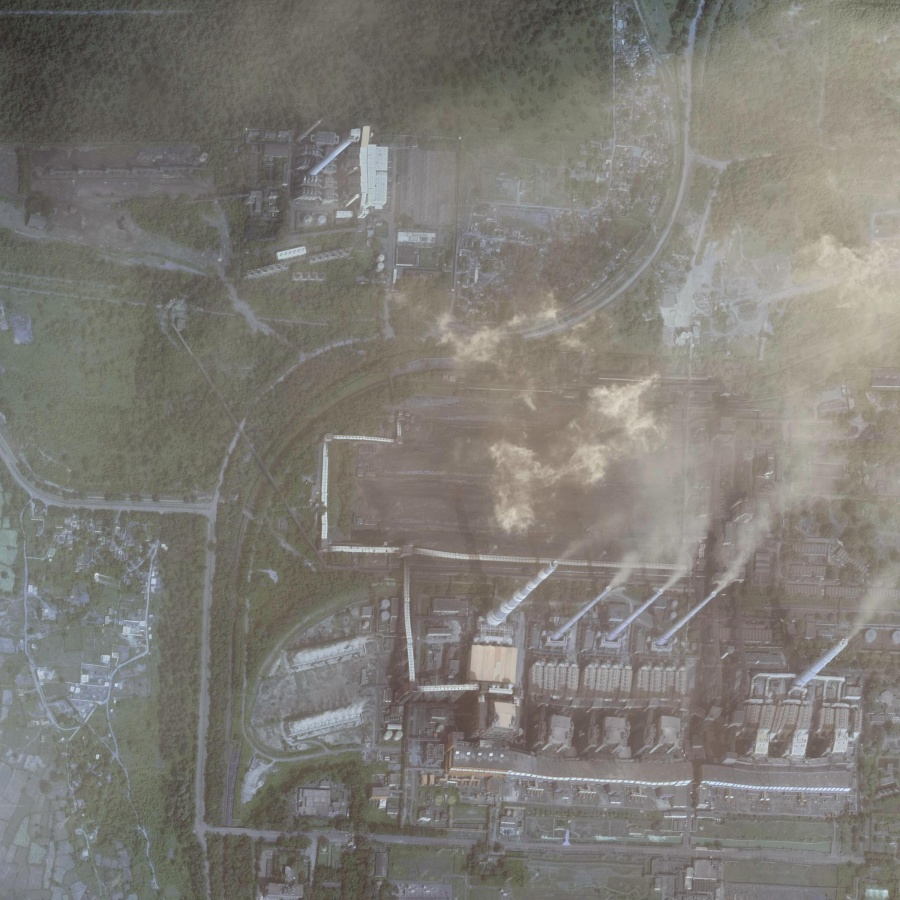PowerPlant: (326, 327, 887, 803)
